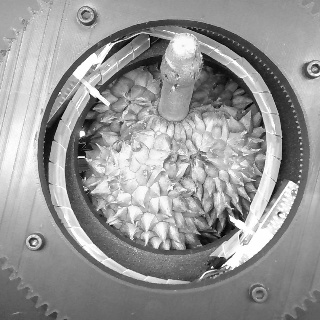base: (151, 97, 196, 126)
end: (171, 31, 197, 60)
